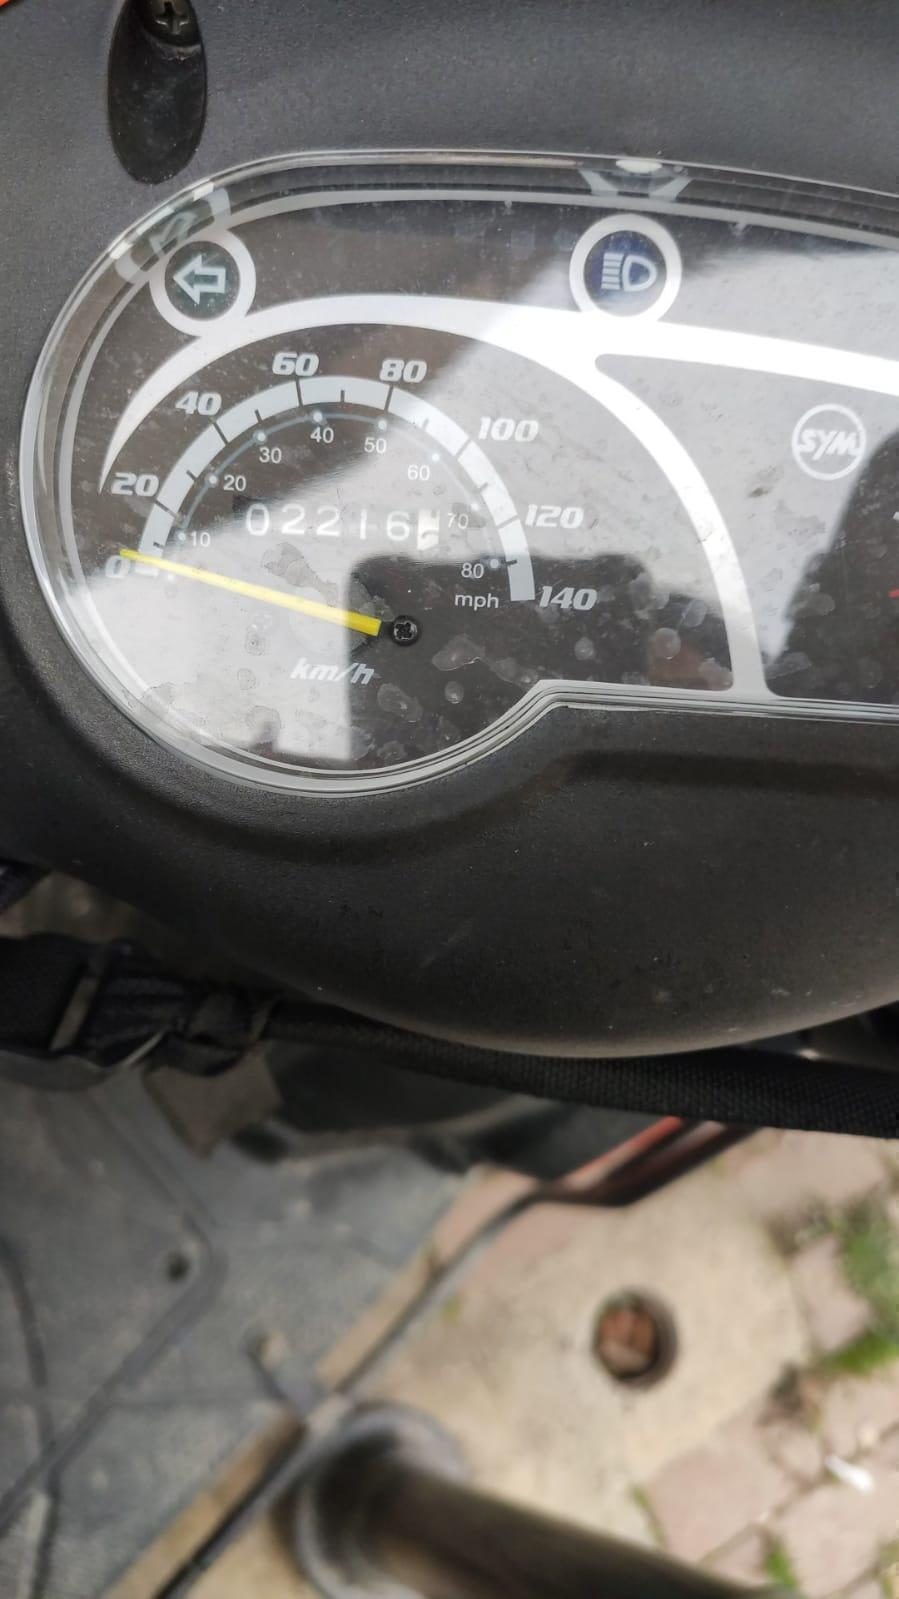0: (244, 499, 272, 536)
1: (353, 503, 369, 543)
2: (280, 499, 308, 538), (314, 502, 342, 539), (418, 527, 442, 555)
6: (385, 506, 414, 543)
odometer: (231, 494, 447, 557)
